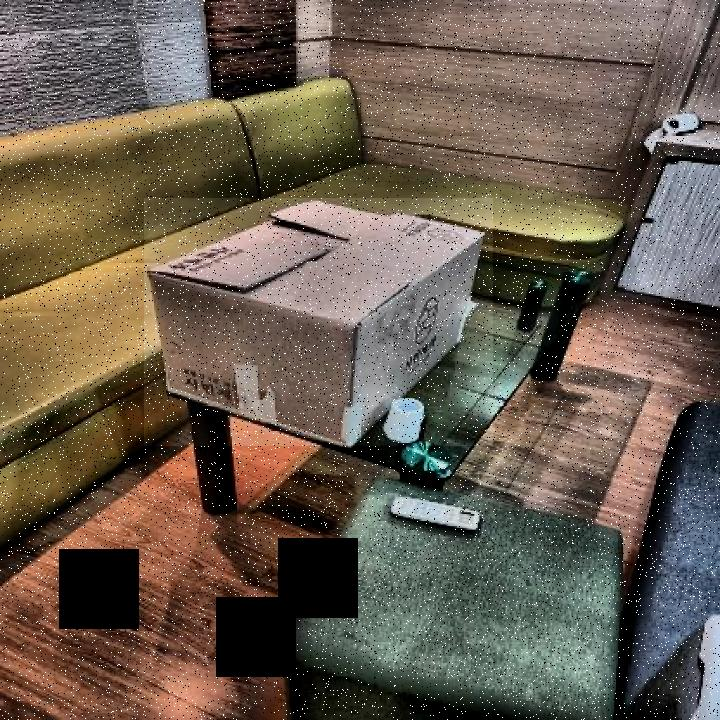box: (144, 198, 493, 446)
